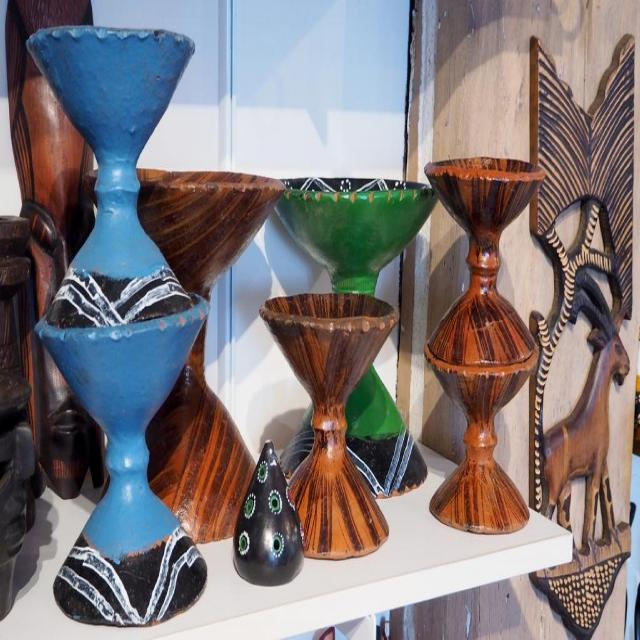table: (0, 394, 586, 638)
